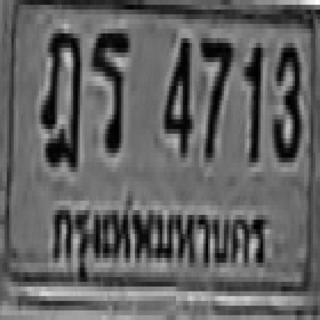A14: (39, 26, 80, 165)
A35: (89, 26, 128, 150)
N01: (242, 41, 261, 160)
N03: (270, 38, 299, 158)
N04: (162, 34, 190, 153)
N07: (199, 33, 231, 158)
P04: (48, 192, 273, 286)
